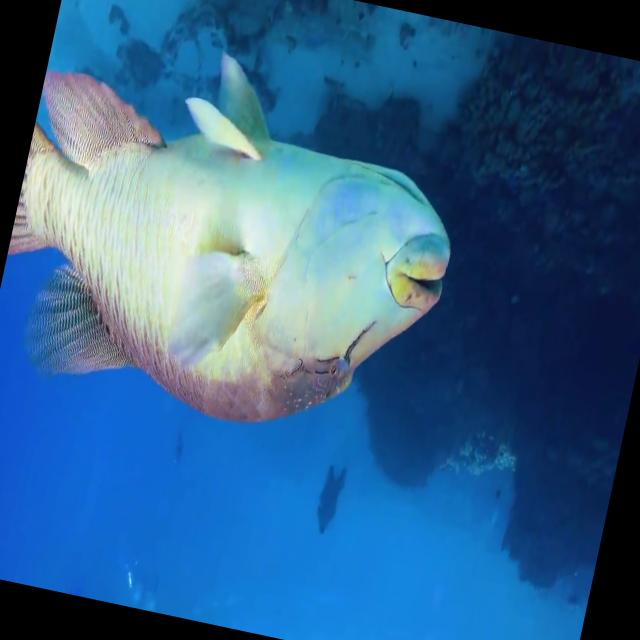fish: (0, 94, 463, 457)
